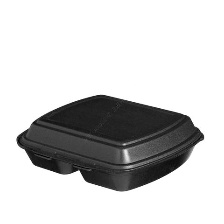foam_box: (11, 87, 208, 194)
